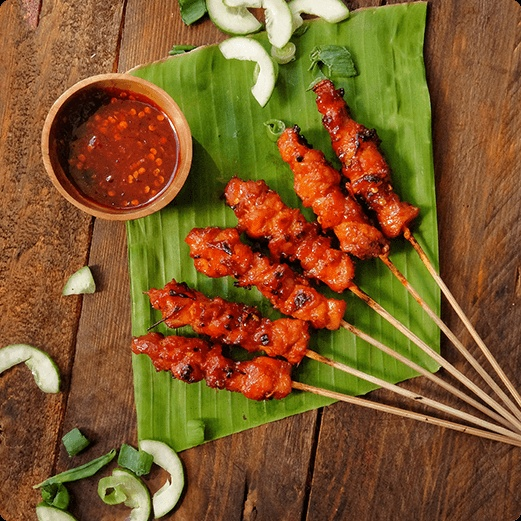sate: (186, 172, 521, 438), (277, 83, 518, 435)
